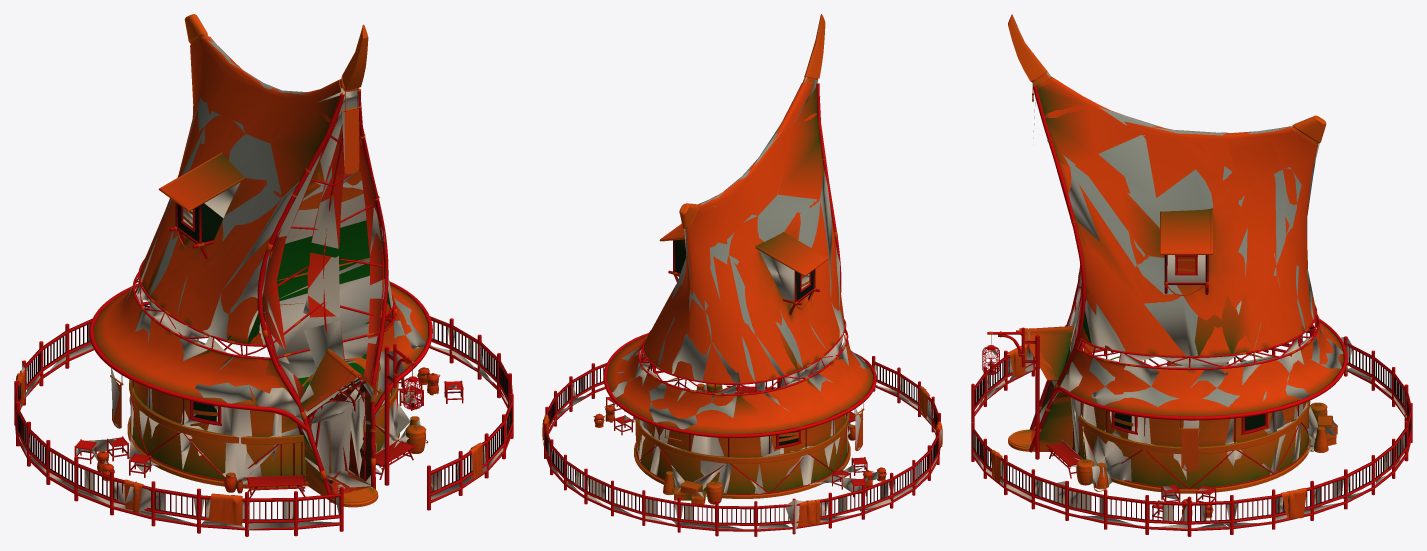
The model's file is KB3D_GAE_BldgSM_C.glb.
3 views of the same model, side by side, from view 1: azimuth 30°, elevation 25°; view 2: azimuth 150°, elevation 25°; view 3: azimuth 270°, elevation 25° (orthographic). The views are drawn at different scales.
Parts seen in each view (by area): view 1: L0, L2, L1; view 2: L0, L1, L2; view 3: L0, L1, L2.
Boxes of the visible parts, bbox=[...] form: L0: bbox=[14, 14, 513, 536]; L2: bbox=[19, 35, 510, 529]; L1: bbox=[14, 16, 513, 529]; L0: bbox=[542, 14, 942, 536]; L1: bbox=[543, 16, 941, 528]; L2: bbox=[543, 22, 942, 532]; L0: bbox=[971, 14, 1412, 536]; L1: bbox=[971, 15, 1412, 536]; L2: bbox=[973, 17, 1406, 528].
Bounding box in the file's own units: 15.71 × 16.6 × 15.47.
